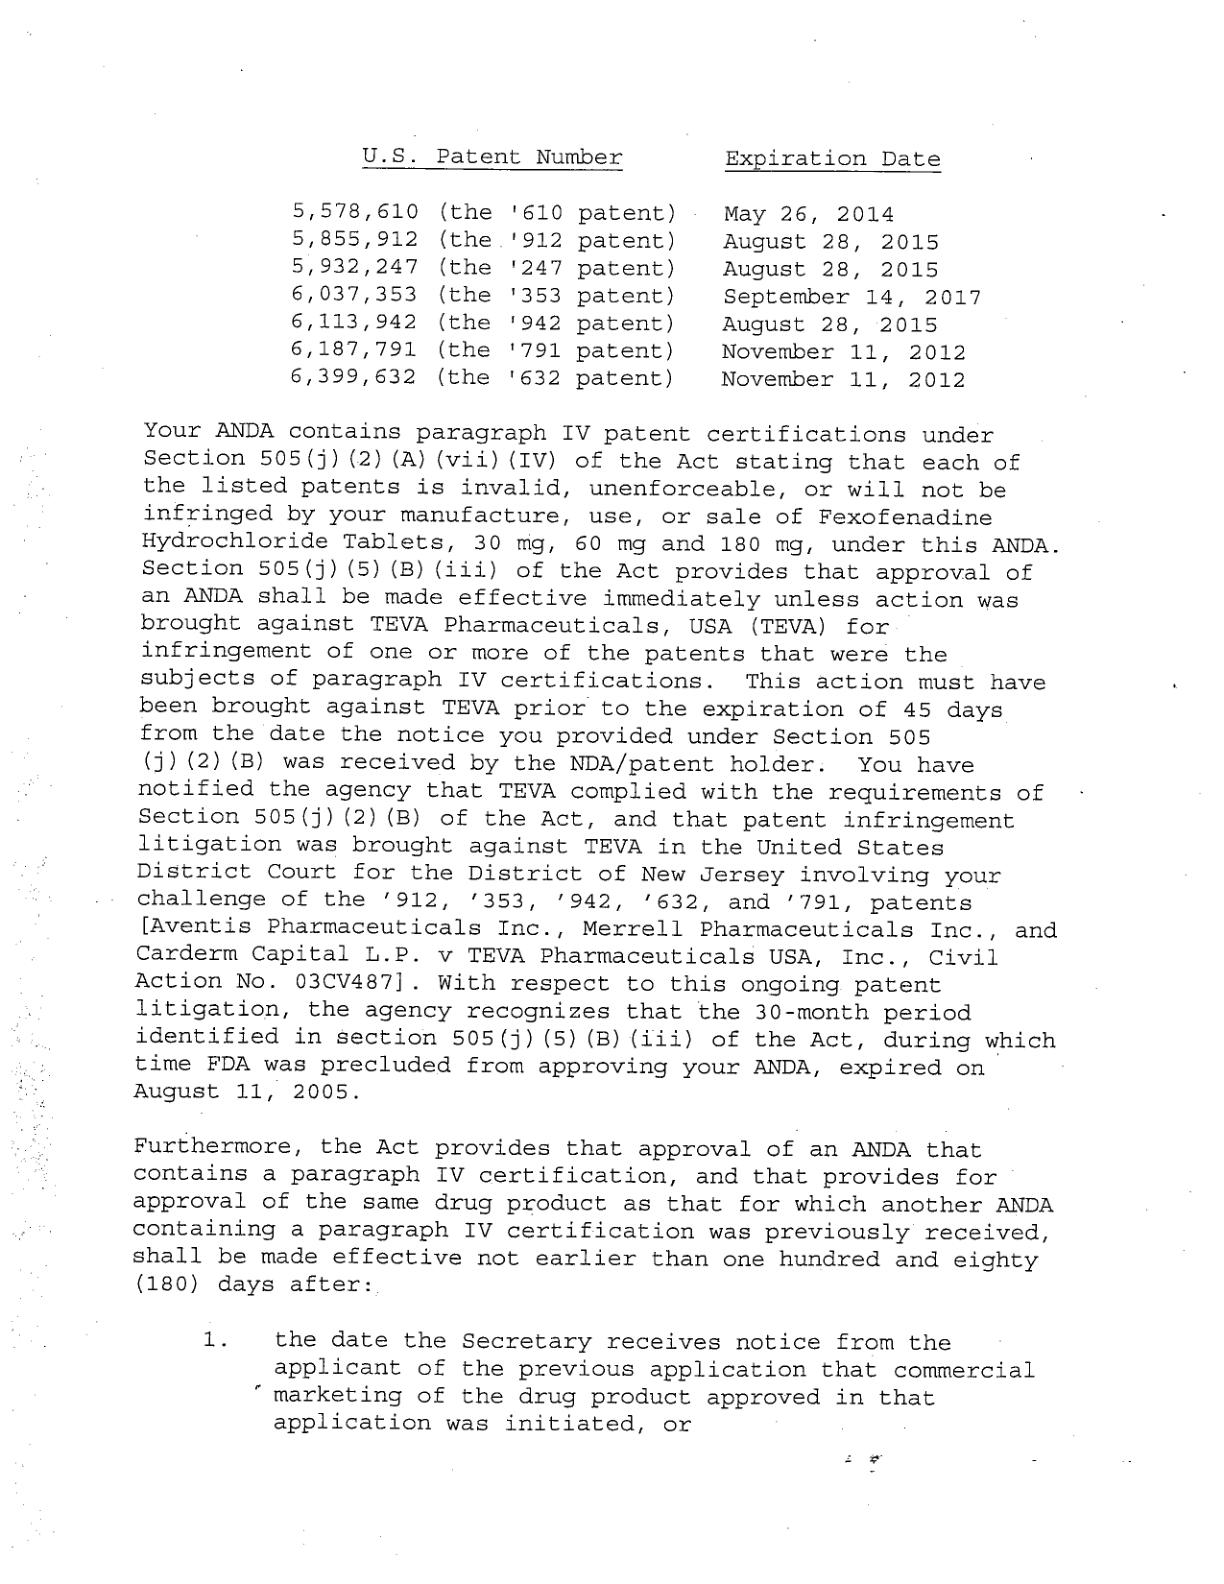nolines: (287, 144, 984, 390)
